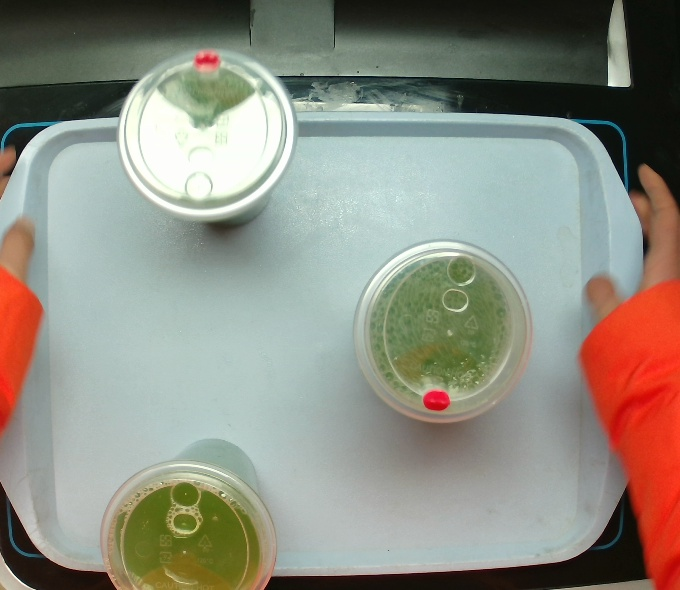wcq-HuangGuaZhi: (113, 44, 299, 231), (349, 237, 534, 425), (97, 435, 278, 590)
